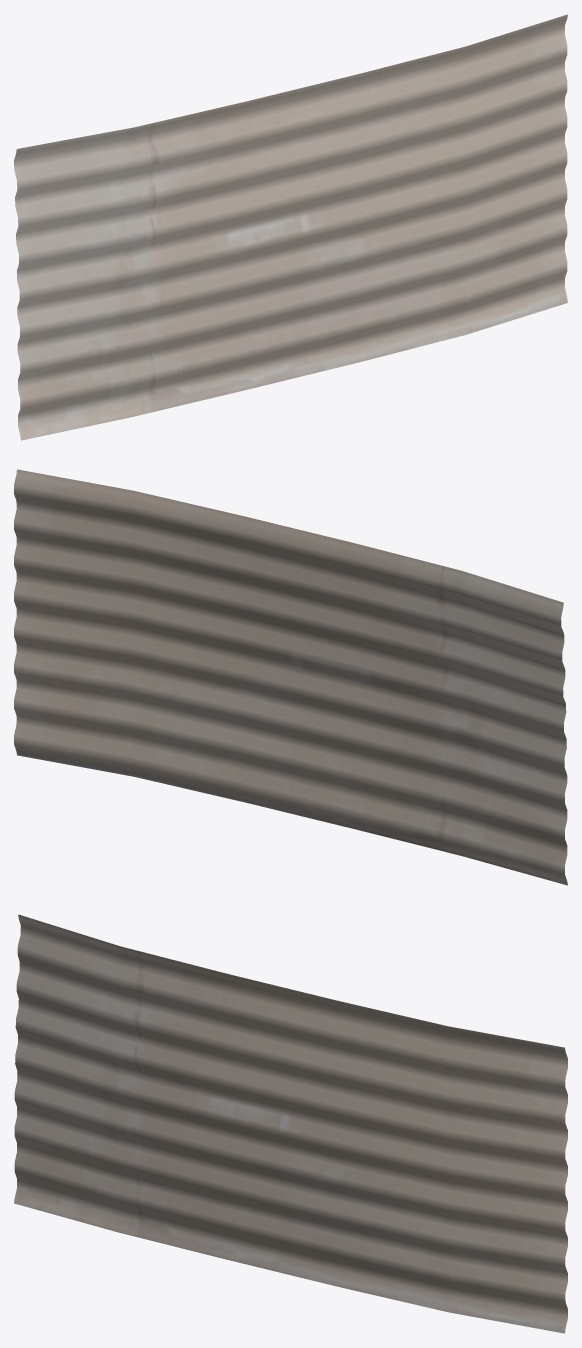
The model's file is props_2fort_corrugated_metal007.glb.
3 renders of one model, top to bottom at view 1: azimuth 30°, elevation 25°; view 2: azimuth 150°, elevation 25°; view 3: azimuth 330°, elevation 25°, orthographic.
Visible parts, largest first — view 1: models/props_2fort/corrugated_metal007; view 2: models/props_2fort/corrugated_metal007; view 3: models/props_2fort/corrugated_metal007.
Part boxes in pixels (x1,y1,x2,y2): models/props_2fort/corrugated_metal007: (14, 14, 567, 440); models/props_2fort/corrugated_metal007: (14, 469, 567, 885); models/props_2fort/corrugated_metal007: (14, 914, 567, 1333).
Size of the model in its own units: 128 by 64 by 5.7.
Materials: 1 (1 with a texture image).
